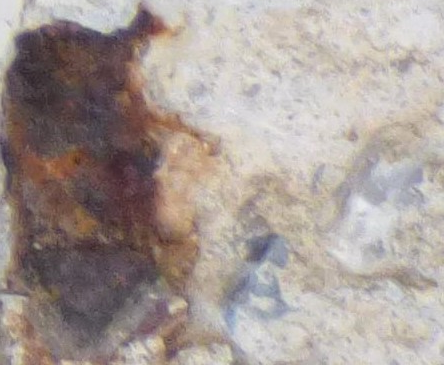Corrosion: (1, 1, 224, 365)
